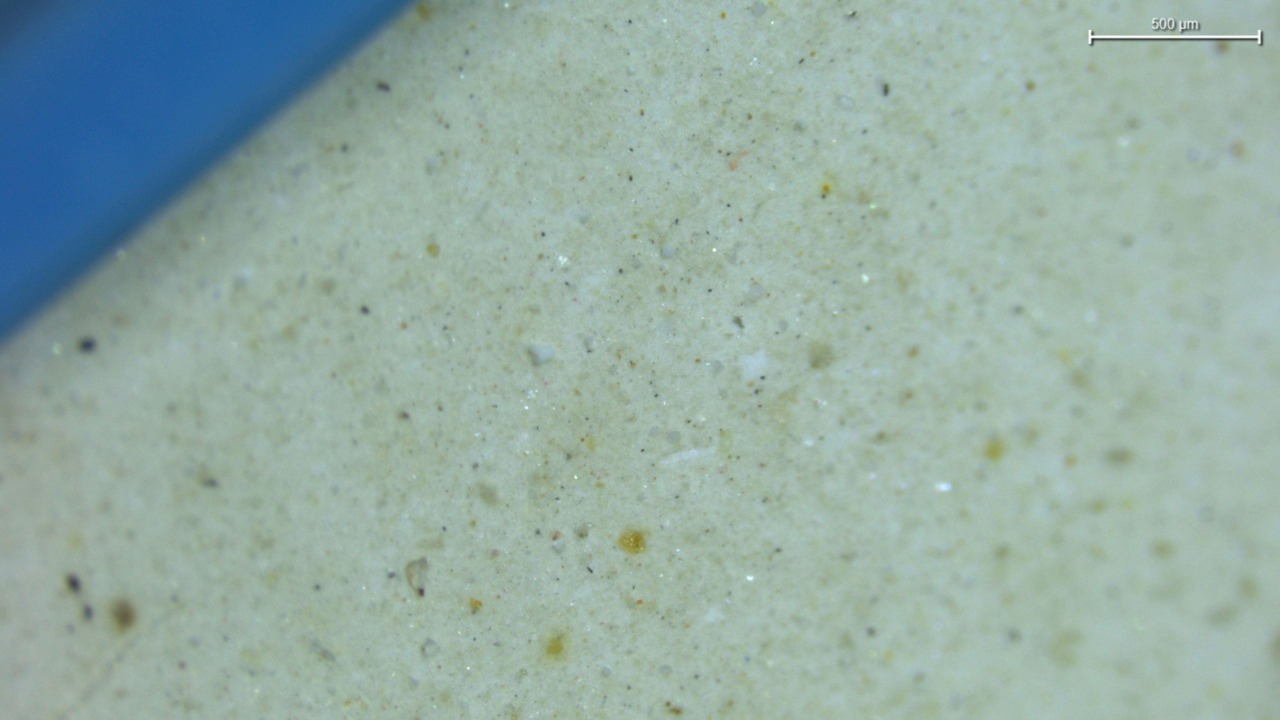microplastic_fragment: (528, 344, 556, 366)
